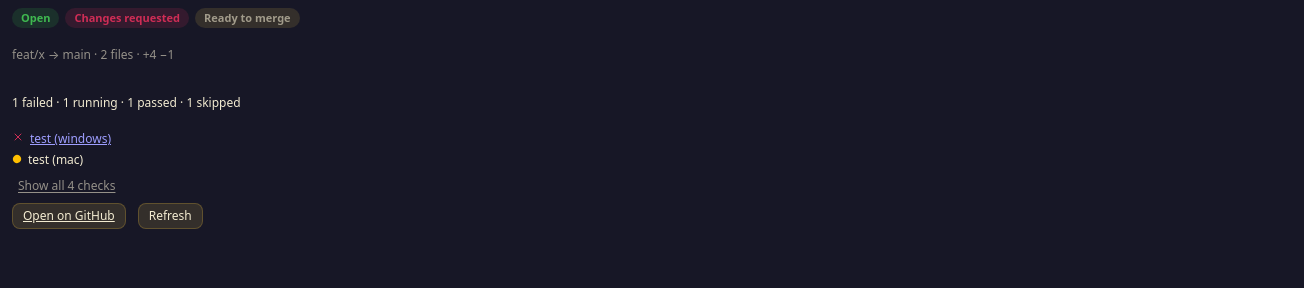
Test: PrDetails › shows failing and running checks first, hides passing ones until asked, and never relies on colour alone
The image size is (1304, 288).
expect the text "Changes requested" is shown: met, box [66,8,189,28]
expect the message reads "1 failed · 1 running · 1 passed · 1 skipped": met, box [12,94,241,111]
What coordinates should you click on to do the following:
click the button "Show all 4 checks"
I would click on:
 (67, 186)
Its box is [12,175,1292,197].
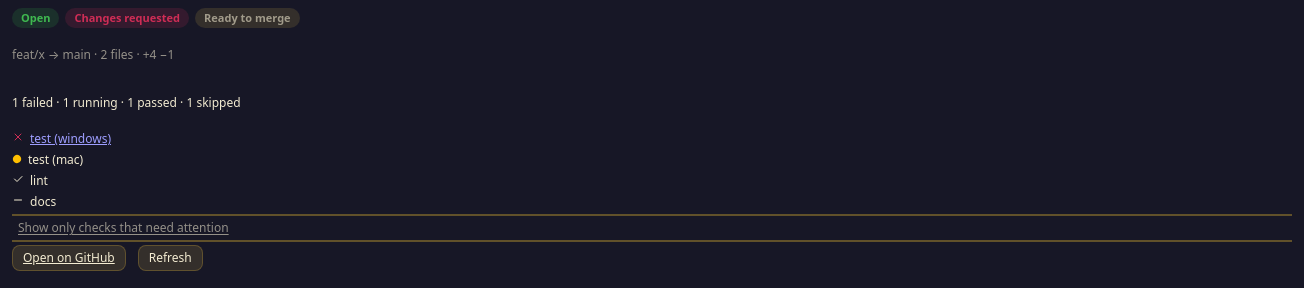
expect the text "lint" is shown: met, box [30,172,48,190]
expect the button "Show only checks that need attention" is expanded: met, box [12,217,1292,239]
